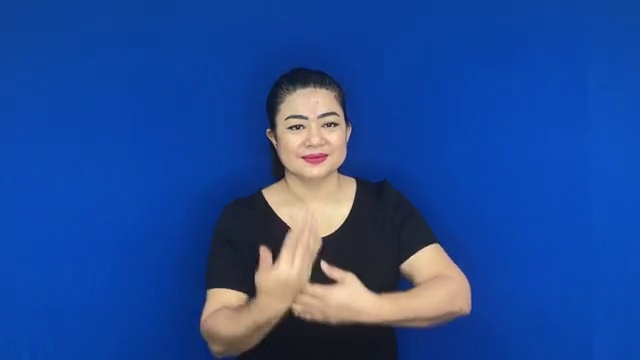bread: (247, 204, 385, 337)
